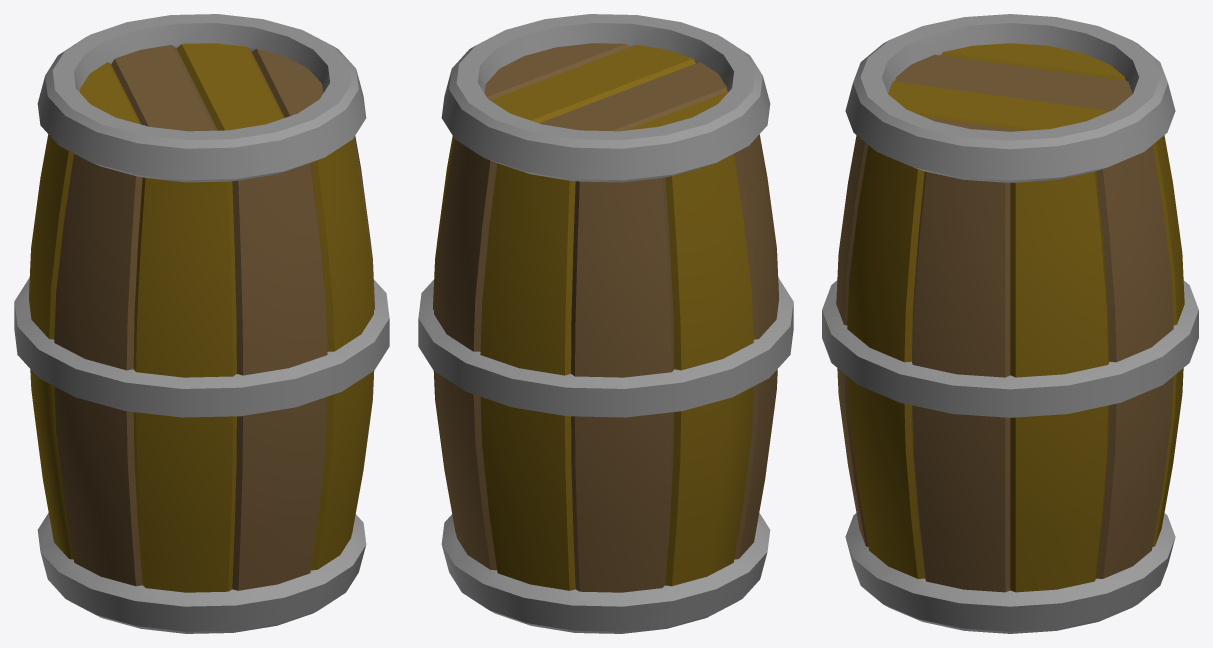
The model's file is WoodBarrel.FBX.
3 renders of one model, left to right at view 1: azimuth 30°, elevation 25°; view 2: azimuth 150°, elevation 25°; view 3: azimuth 270°, elevation 25°, orthographic.
Parts seen in each view (by area): view 1: WoodBarrel; view 2: WoodBarrel; view 3: WoodBarrel.
Boxes of the visible parts, x1=… form: WoodBarrel: x1=14, y1=14, x2=389, y2=633; WoodBarrel: x1=418, y1=14, x2=793, y2=633; WoodBarrel: x1=822, y1=14, x2=1198, y2=633.
Bounding box in the file's own units: 86.79 × 125 × 86.79.
